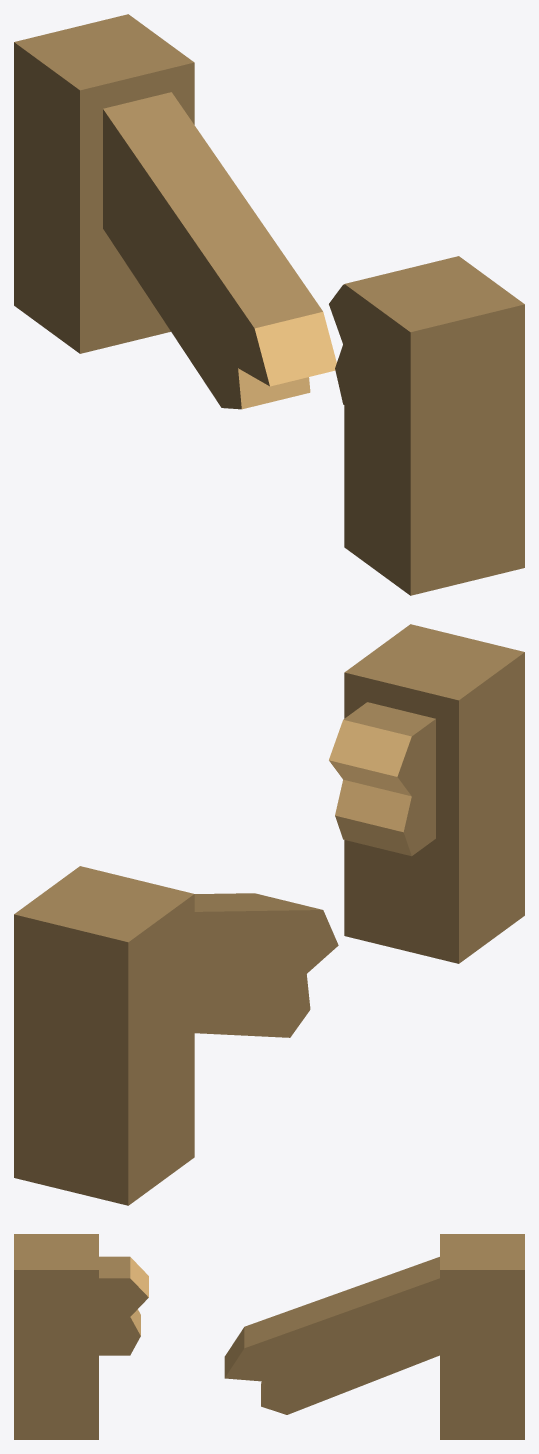
Rendered from Wood_Fence_Broken_01.fbx.
The picture shows the model from 3 angles, top to bottom: view 1: azimuth 30°, elevation 25°; view 2: azimuth 150°, elevation 25°; view 3: azimuth 270°, elevation 25°; orthographic projection. The views are drawn at different scales.
Parts seen in each view (by area): view 1: Mesh2_Wood_Fence_Broken Model, Mesh1_Wood_Fence_Broken Model; view 2: Mesh2_Wood_Fence_Broken Model, Mesh1_Wood_Fence_Broken Model; view 3: Mesh2_Wood_Fence_Broken Model, Mesh1_Wood_Fence_Broken Model.
Part boxes in pixels (left/top/right/bottom): Mesh2_Wood_Fence_Broken Model: left=14, top=14, right=336, bottom=409; Mesh1_Wood_Fence_Broken Model: left=329, top=256, right=524, bottom=595; Mesh2_Wood_Fence_Broken Model: left=14, top=866, right=338, bottom=1205; Mesh1_Wood_Fence_Broken Model: left=329, top=624, right=524, bottom=963; Mesh2_Wood_Fence_Broken Model: left=224, top=1234, right=524, bottom=1439; Mesh1_Wood_Fence_Broken Model: left=14, top=1234, right=148, bottom=1439.
Bounding box in the file's own units: 0.5 × 1.1 × 3.
